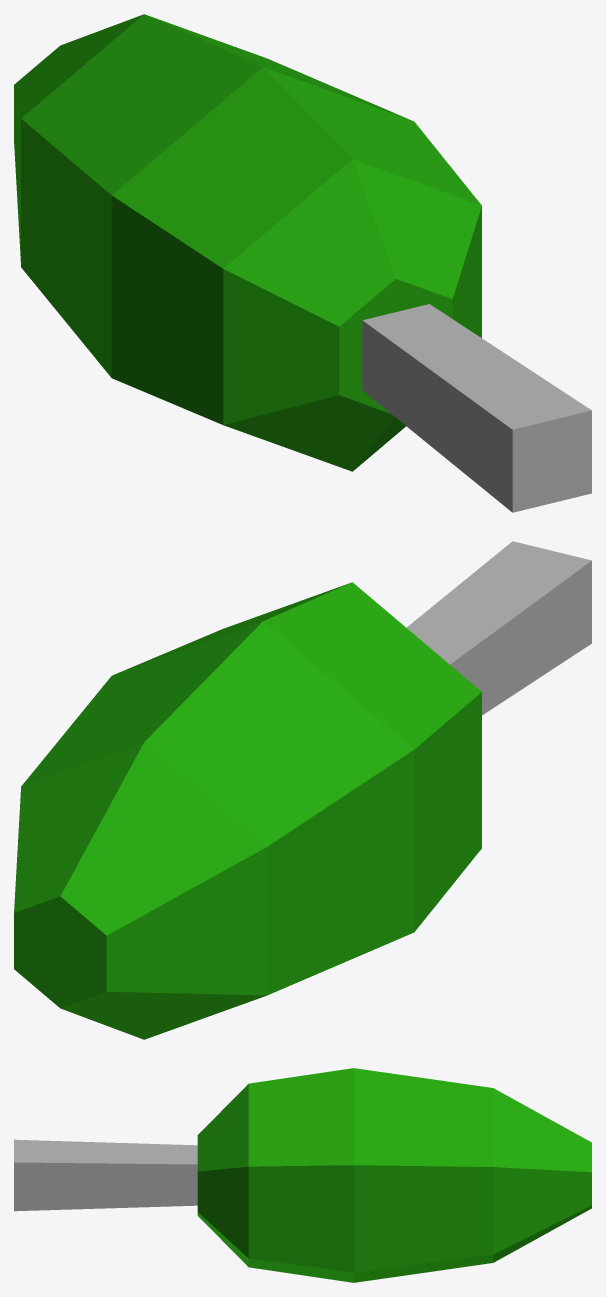
Rendered from Tree_Smal.fbx.
The picture shows the model from 3 angles, top to bottom: view 1: azimuth 30°, elevation 25°; view 2: azimuth 150°, elevation 25°; view 3: azimuth 270°, elevation 25°; orthographic projection. The views are drawn at different scales.
Visible parts, largest first — view 1: 立方体.001; view 2: 立方体.001; view 3: 立方体.001.
Part boxes in pixels (bbox=[...]): 立方体.001: bbox=[14, 14, 591, 512]; 立方体.001: bbox=[14, 541, 591, 1039]; 立方体.001: bbox=[14, 1068, 591, 1282].
Size of the model in its own units: 5.94 by 6.85 by 16.71.
